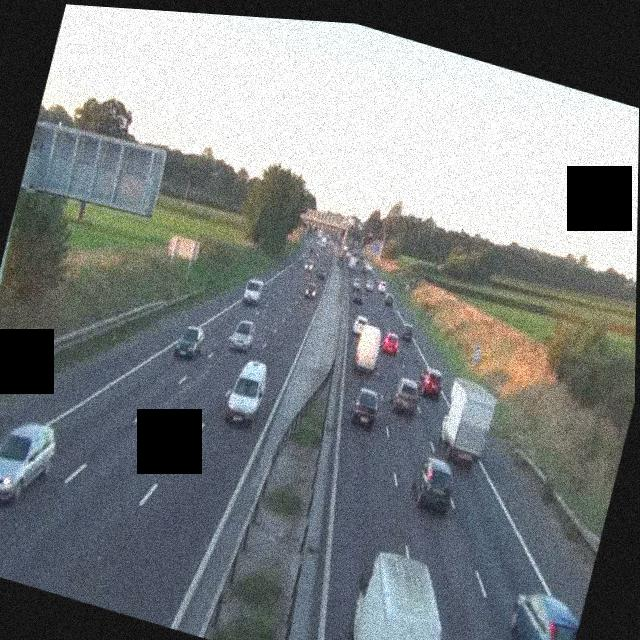car: (0, 410, 60, 517), (498, 585, 584, 640), (222, 354, 270, 430), (406, 451, 460, 516), (348, 384, 382, 430), (172, 320, 207, 363), (388, 375, 422, 418), (416, 365, 446, 400), (228, 316, 256, 353), (241, 275, 265, 306), (381, 329, 401, 357), (351, 312, 370, 337), (302, 279, 319, 299), (399, 321, 415, 341), (350, 287, 366, 305), (383, 291, 396, 308), (376, 278, 388, 294), (301, 256, 313, 271), (317, 263, 328, 279)
truck: (338, 543, 461, 640), (431, 372, 501, 472), (350, 320, 386, 376), (346, 251, 359, 269)
